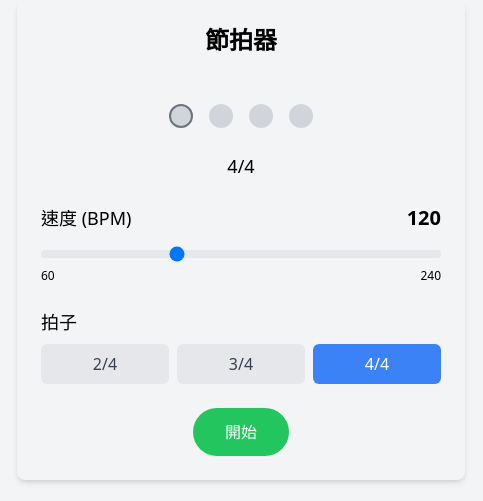
Test: Metronome › 應該在點擊開始按鈕時開始節拍器
Click the button "開始" at (241, 432), box [193,408,289,456]
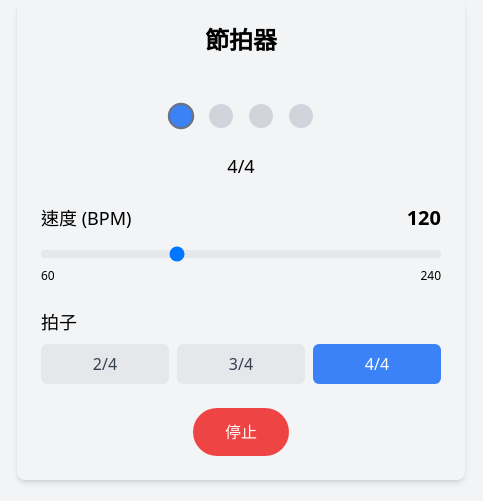
Check: the button "停止" is shown, box [193,408,289,456]
